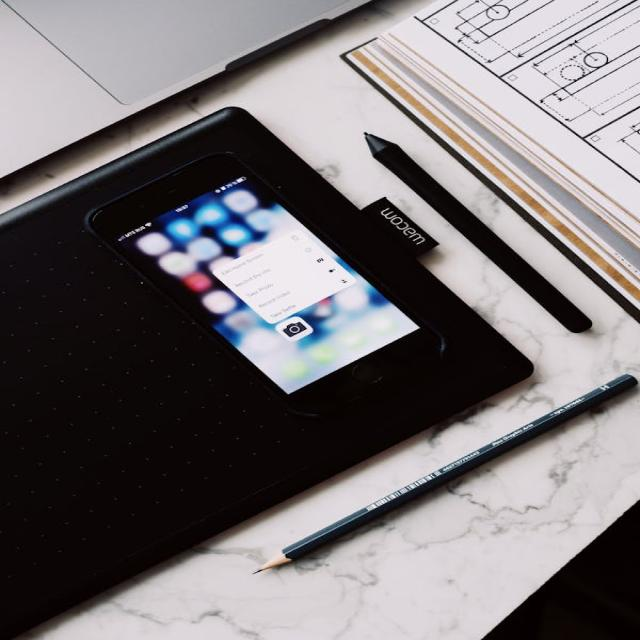mobile_phone: (66, 134, 474, 442)
pen: (336, 123, 616, 351)
